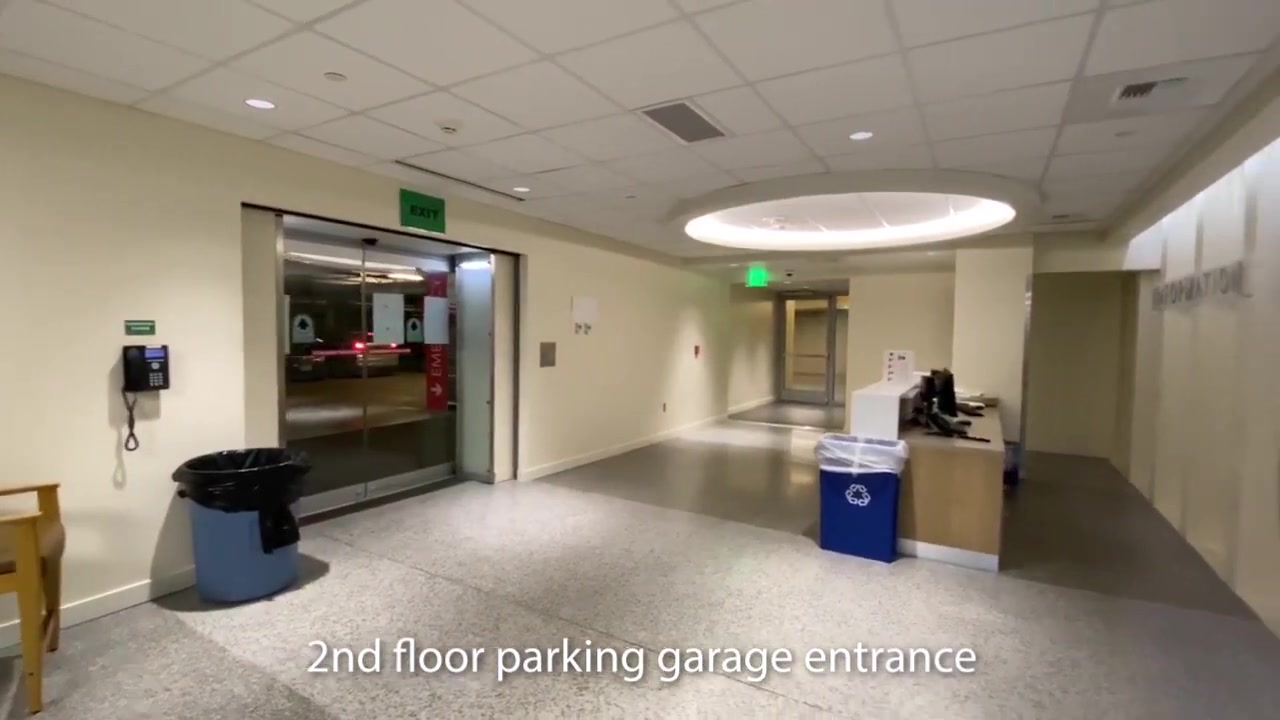computer: (937, 367, 958, 417)
counter: (850, 370, 1008, 570)
countertop: (902, 396, 1006, 449)
telephone: (113, 344, 169, 451)
waste_bin: (177, 447, 311, 603), (814, 431, 908, 563)
